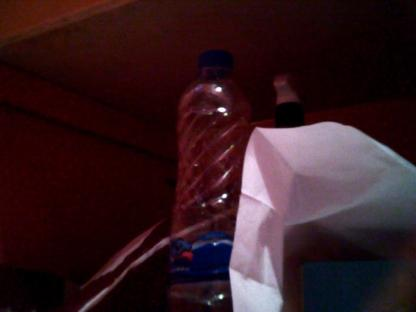Plastic Bottle: (171, 48, 253, 312)
